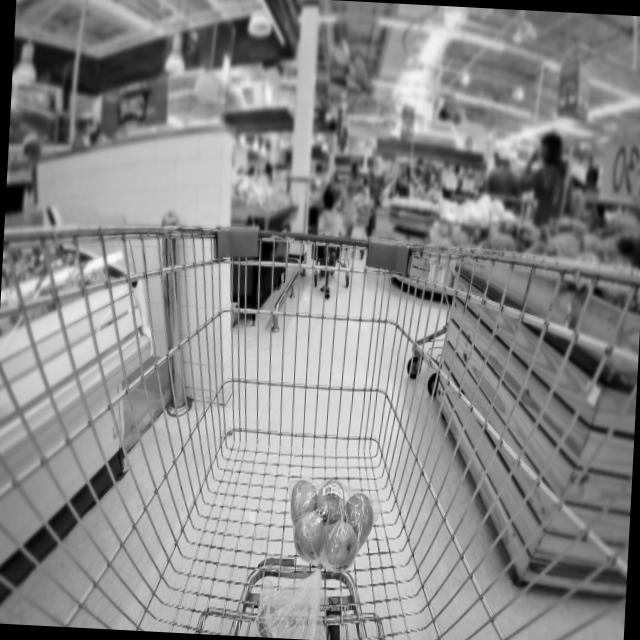tao: (284, 476, 377, 572)
